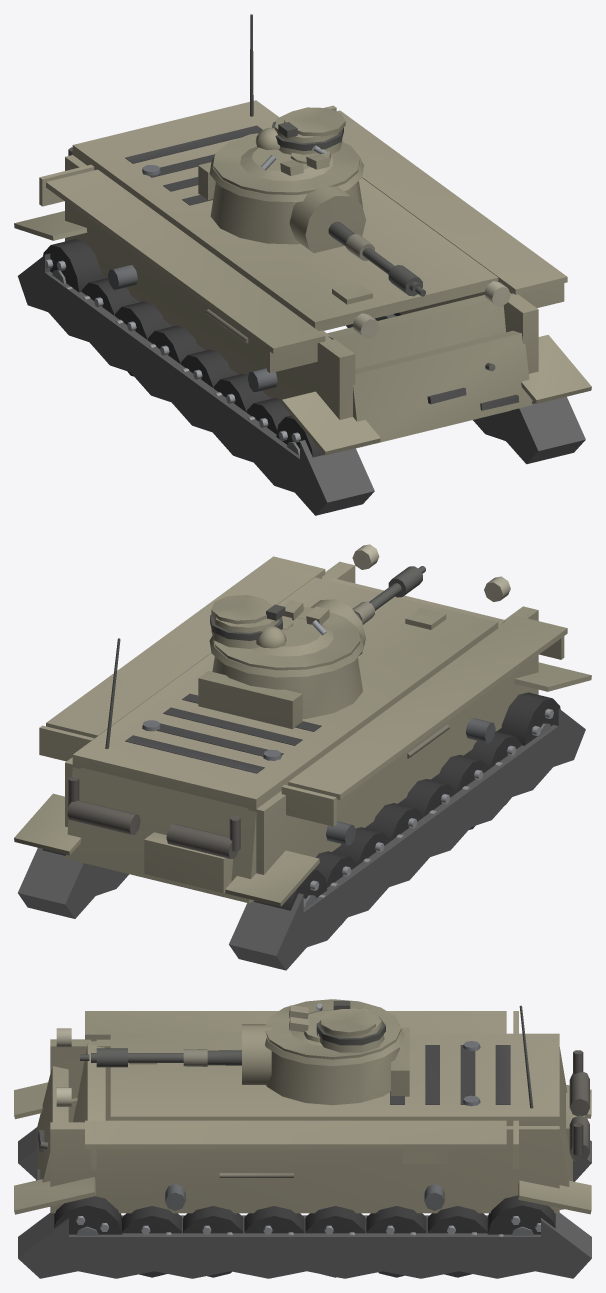
The model's file is chiha.glb.
3 views of the same model, one above another, from view 1: azimuth 30°, elevation 25°; view 2: azimuth 150°, elevation 25°; view 3: azimuth 270°, elevation 25° (orthographic). The views are drawn at different scales.
Visible parts, largest first — view 1: hullSide, tracks, hullTop, lowerPlate, turretRoof, glacis, turretFront, mantlet, wheel7, barrel, wheel1, wheel2 (+6 smaller); view 2: hullSide, hullTop, tracks, hullRear, turretRoof, turretRear, turretFront, wheel6, turretSide, barrel, glacis, wheel4 (+7 smaller); view 3: hullSide, tracks, hullTop, turretRoof, turretFront, hullRear, barrel, glacis, wheel14, wheel15, lowerPlate, mantlet (+8 smaller).
Boxes of the visible parts, bbox=[...] form: hullSide: bbox=[39, 105, 567, 419]; tracks: bbox=[14, 211, 591, 515]; hullTop: bbox=[72, 100, 498, 330]; lowerPlate: bbox=[353, 330, 532, 445]; turretRoof: bbox=[213, 107, 360, 195]; glacis: bbox=[327, 282, 519, 448]; turretFront: bbox=[210, 181, 362, 244]; mantlet: bbox=[289, 184, 365, 253]; wheel7: bbox=[43, 239, 106, 292]; barrel: bbox=[328, 221, 425, 296]; wheel1: bbox=[114, 301, 172, 376]; wheel2: bbox=[147, 325, 205, 363]; hullSide: bbox=[39, 544, 567, 874]; hullTop: bbox=[72, 577, 498, 809]; tracks: bbox=[14, 662, 591, 970]; hullRear: bbox=[65, 638, 257, 903]; turretRoof: bbox=[210, 595, 360, 670]; turretRear: bbox=[198, 671, 302, 729]; turretFront: bbox=[212, 656, 362, 718]; wheel6: bbox=[497, 692, 560, 745]; turretSide: bbox=[209, 631, 363, 677]; barrel: bbox=[352, 566, 425, 624]; glacis: bbox=[330, 578, 505, 629]; wheel4: bbox=[431, 755, 488, 829]; hullSide: bbox=[50, 1011, 559, 1213]; tracks: bbox=[14, 1082, 591, 1278]; hullTop: bbox=[110, 1033, 559, 1125]; turretRoof: bbox=[265, 999, 401, 1059]; turretFront: bbox=[266, 1047, 399, 1105]; hullRear: bbox=[519, 1005, 589, 1209]; barrel: bbox=[80, 1048, 241, 1067]; glacis: bbox=[36, 1044, 156, 1180]; wheel14: bbox=[54, 1196, 122, 1235]; wheel15: bbox=[487, 1195, 555, 1236]; lowerPlate: bbox=[37, 1066, 68, 1206]; mantlet: bbox=[242, 1024, 271, 1084].
Bounding box in the file's own units: 3.4 × 2.94 × 6.24.
